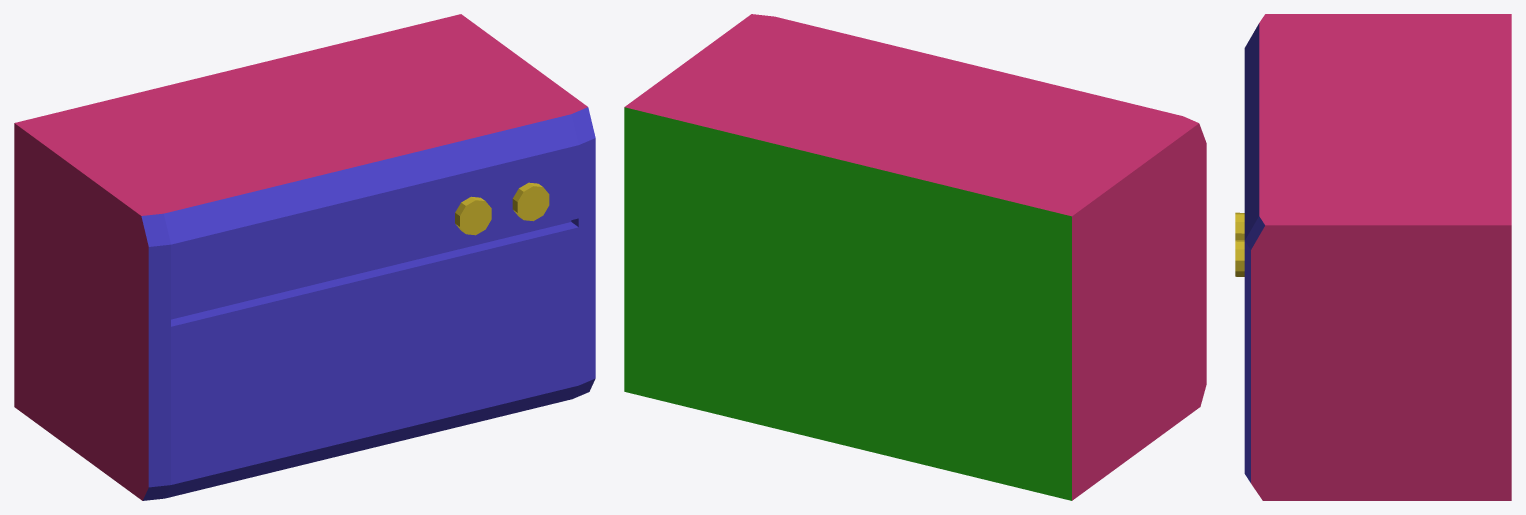
File: Objeto_ArCondicionado_2.0.fbx
3 views of the same model, side by side, from view 1: azimuth 30°, elevation 25°; view 2: azimuth 150°, elevation 25°; view 3: azimuth 270°, elevation 25° (orthographic). The views are drawn at different scales.
Parts seen in each view (by area): view 1: Cilindro; view 2: Cilindro; view 3: Cilindro.
Boxes of the visible parts, x1,y1,x2,y2 form: Cilindro: [14, 14, 595, 500]; Cilindro: [624, 14, 1206, 500]; Cilindro: [1235, 14, 1511, 500].
Size of the model in its own units: 232 by 141 by 128.
